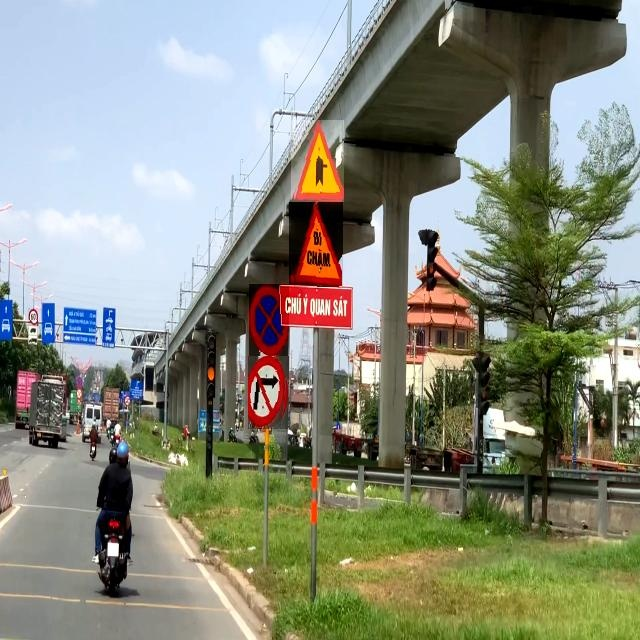bien_chi_dan: (290, 202, 344, 287), (291, 120, 344, 202), (248, 356, 289, 429), (250, 284, 290, 356), (28, 308, 38, 326), (76, 377, 83, 388)
